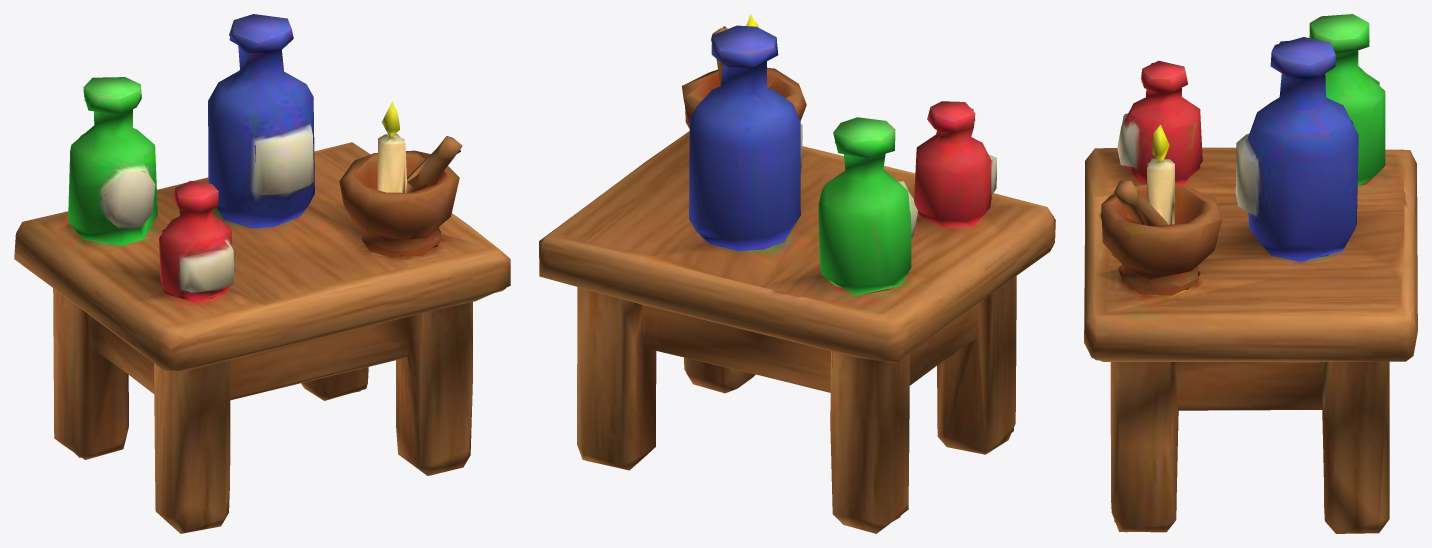
File: sz-potion-table.glb
3 renders of one model, left to right at view 1: azimuth 30°, elevation 25°; view 2: azimuth 150°, elevation 25°; view 3: azimuth 270°, elevation 25°, orthographic. The views are drawn at different scales.
Parts seen in each view (by area): view 1: geometry_0; view 2: geometry_0; view 3: geometry_0.
Boxes of the visible parts, x1,y1,x2,y2 form: geometry_0: [14, 14, 510, 533]; geometry_0: [539, 14, 1055, 533]; geometry_0: [1084, 14, 1417, 533].
Bounding box in the file's own units: 0.9016 × 1 × 0.7102.
1 material, 1 textured.
